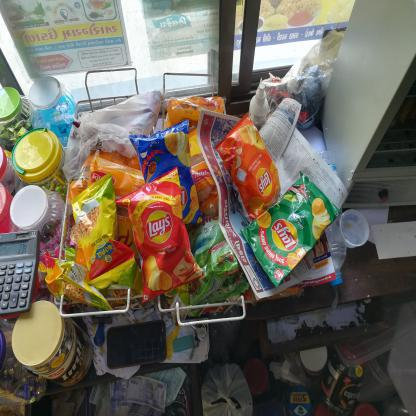chile_limon: (245, 170, 339, 286)
hot_and_sweet: (221, 116, 279, 212)
indian_magic_masala: (140, 140, 202, 228)
tangy_tomato: (122, 180, 197, 297)
